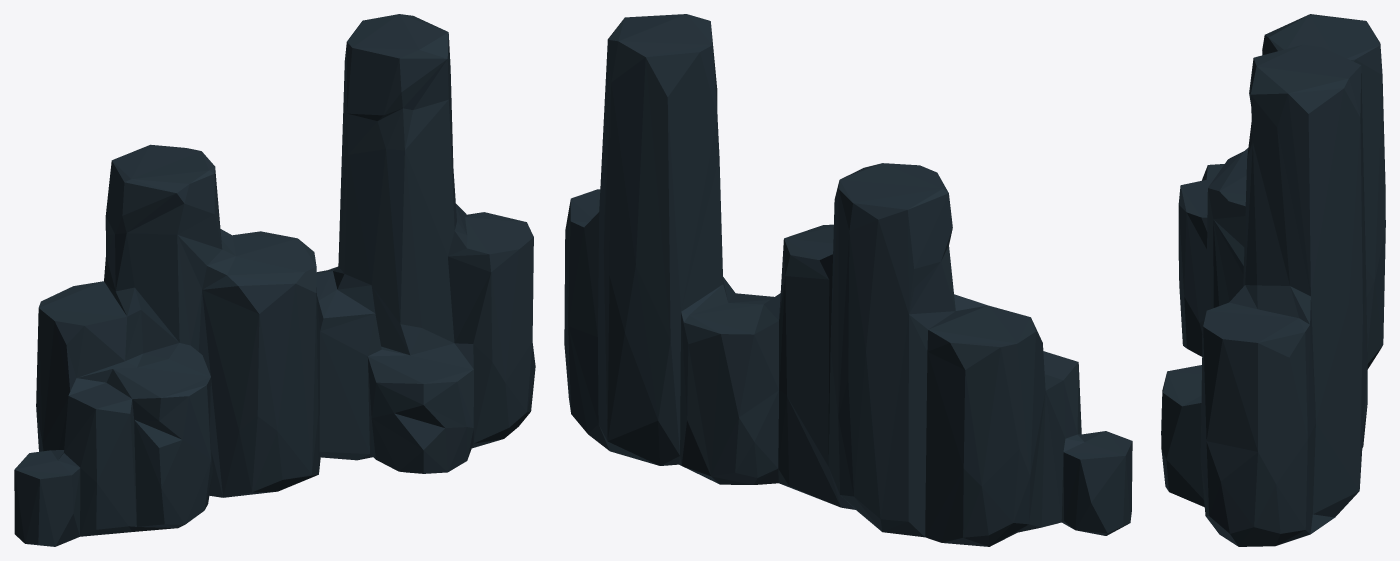
File: cliff_bazalt.fbx
3 views of the same model, side by side, from view 1: azimuth 30°, elevation 25°; view 2: azimuth 150°, elevation 25°; view 3: azimuth 270°, elevation 25° (orthographic). The views are drawn at different scales.
Visible parts, largest first — view 1: SM_Env_Basalt_04; view 2: SM_Env_Basalt_04; view 3: SM_Env_Basalt_04.
Part boxes in pixels (left/top/right/bottom): SM_Env_Basalt_04: left=14, top=14, right=535, bottom=546; SM_Env_Basalt_04: left=564, top=14, right=1132, bottom=546; SM_Env_Basalt_04: left=1161, top=14, right=1385, bottom=546.
Bounding box in the file's own units: 1856 × 1346 × 634.
